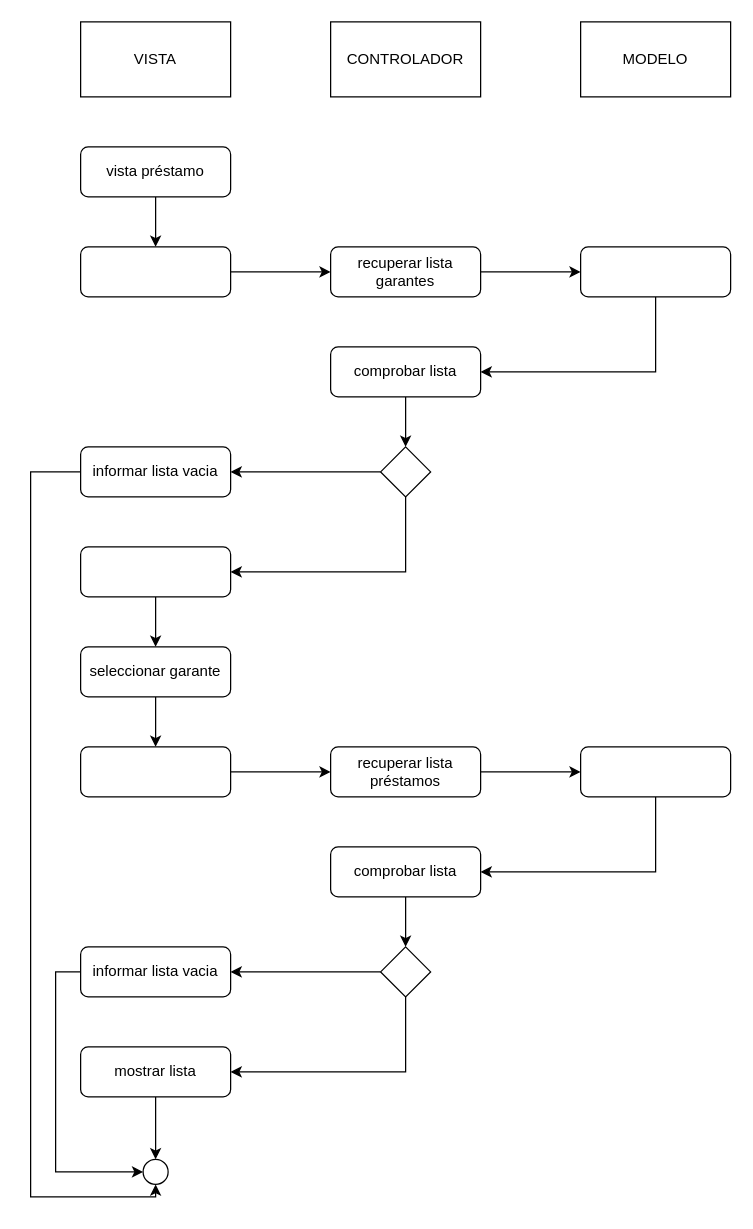
Some shapes in this 753 by 1229 pixel diagram are drawn without their labels. The shapes that lost their labels are listed below. From the top down, each one's centre as x and y in pixels, then its label:
At point 155,271: "listar préstamo por garante".
At point 655,271: "recuperar garantes".
At point 155,571: "mostrar formulario".
At point 155,771: "confirmar formulario".
At point 655,771: "recuperar préstamos que coincidan".
